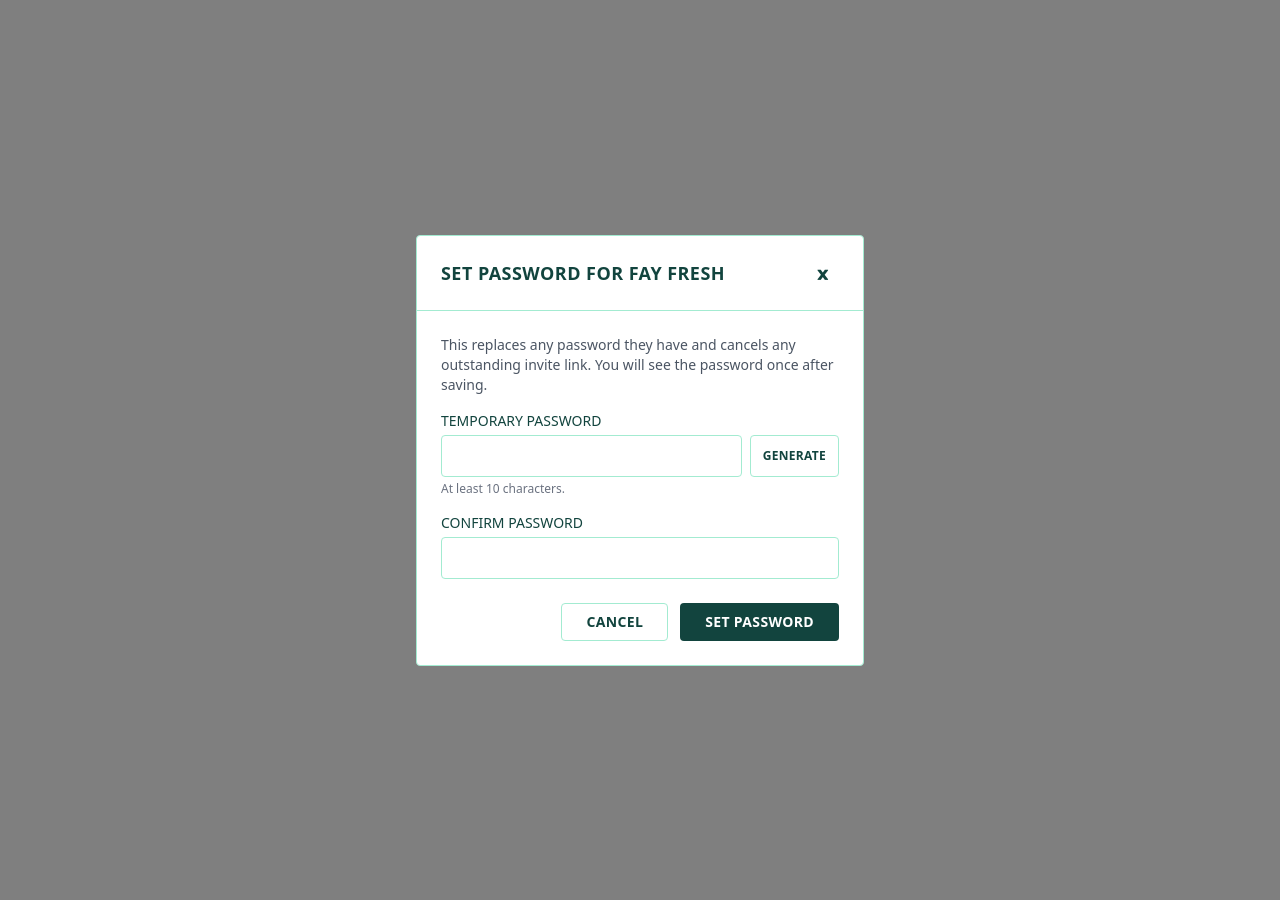
Test: CoachSetPasswordModal › refuses a mismatched confirmation
Type "LongEnough12" into the field labelled "Temporary password".
click(591, 456); type("LongEnough12")  # box 441,434 -> 742,476
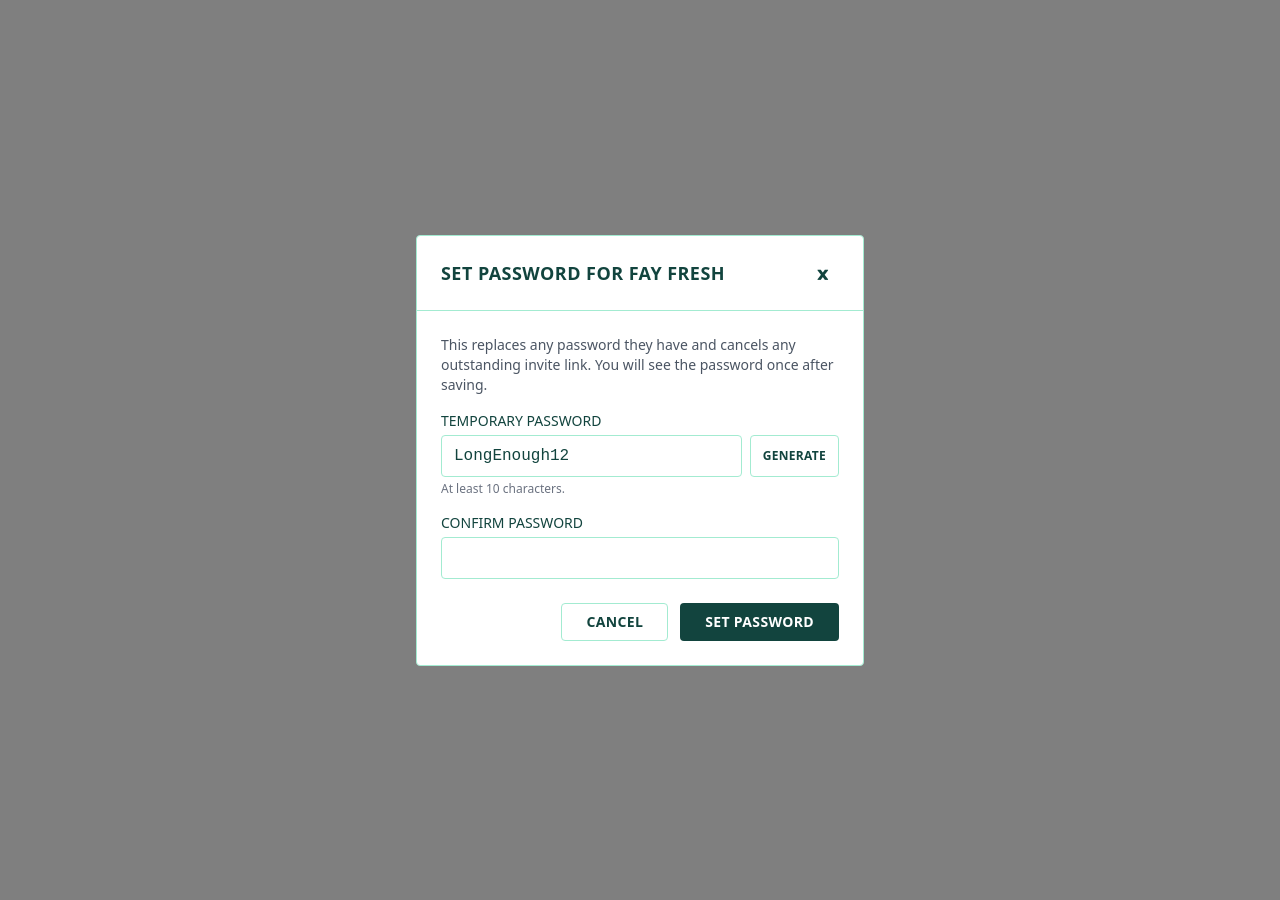
Type "LongEnough13" into the field labelled "Confirm password".
click(640, 558); type("LongEnough13")  # box 441,536 -> 839,578
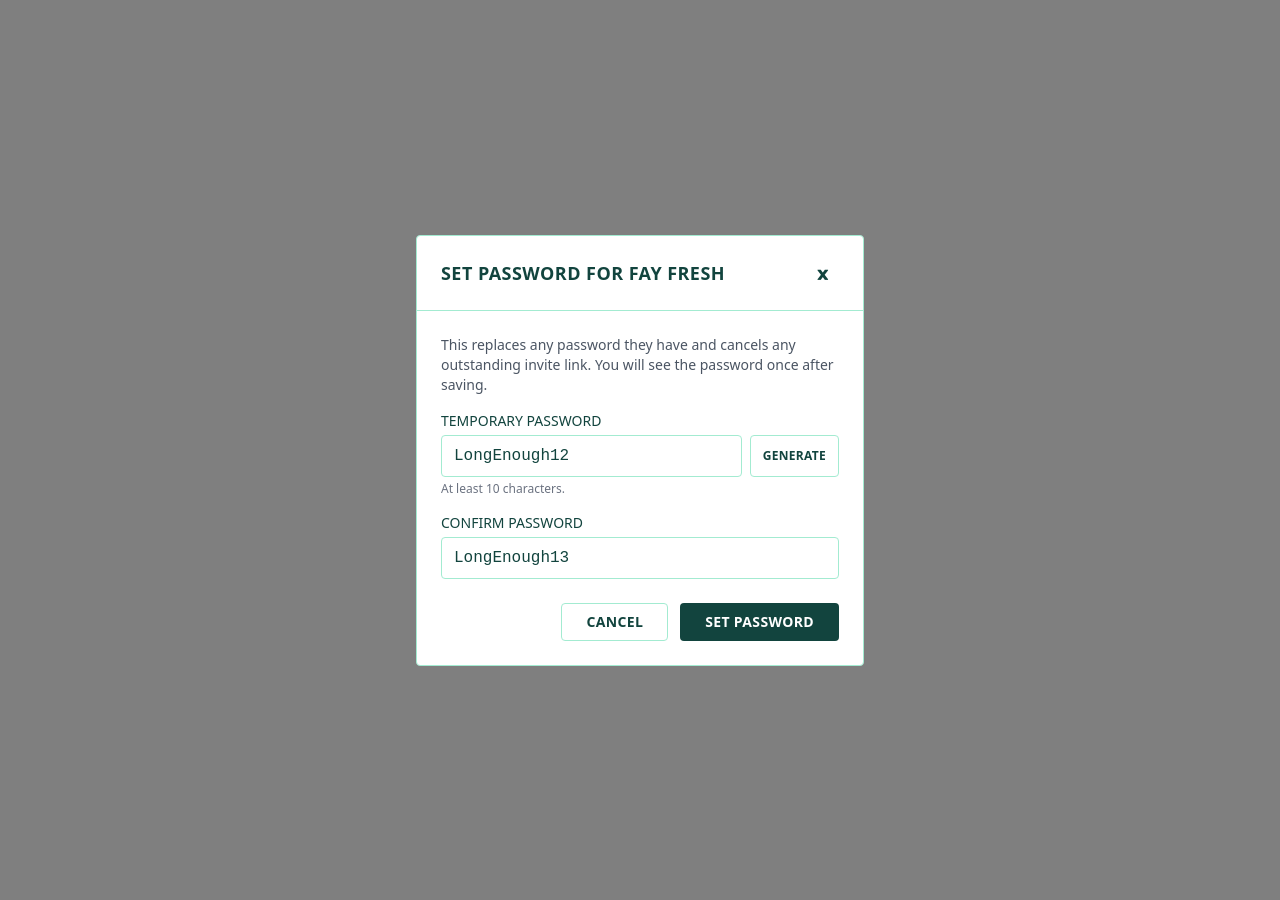
Click the button "Set password".
click(760, 622)  # box 680,602 -> 839,640
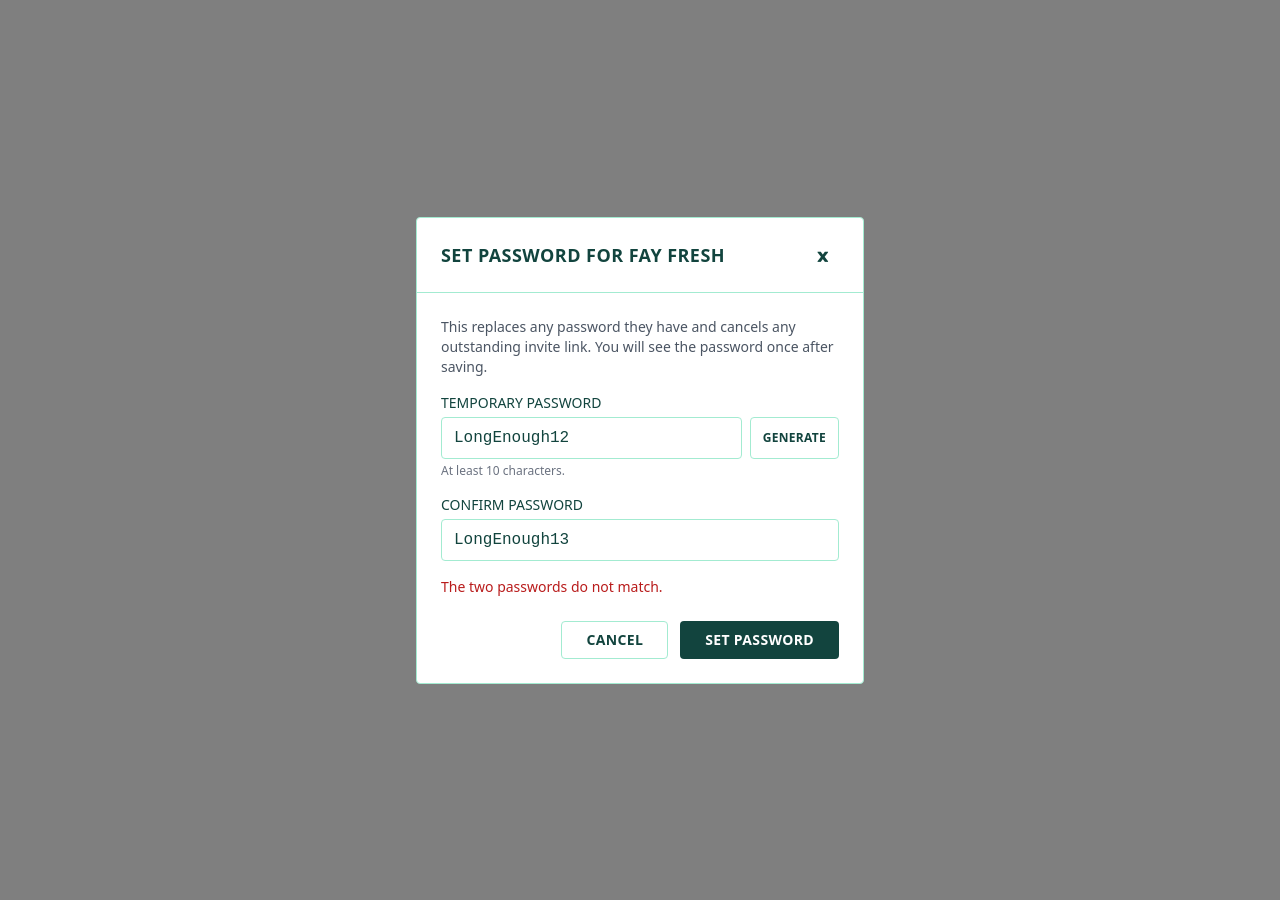
Expected: the text "The two passwords do not match." is shown, 441,576 -> 663,596
